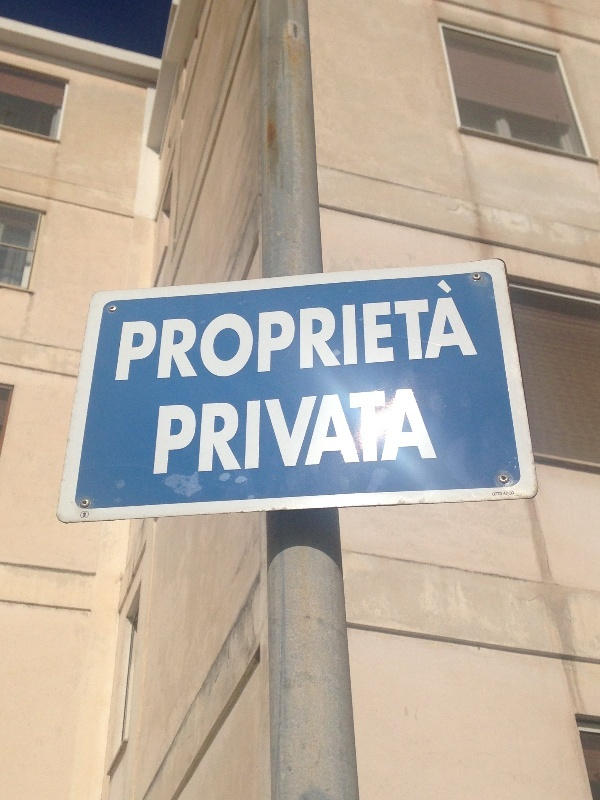text: (129, 275, 144, 385), (145, 275, 160, 385), (161, 275, 176, 385), (177, 275, 192, 385), (193, 275, 208, 385), (209, 275, 224, 385), (225, 275, 240, 385), (241, 275, 256, 385), (257, 275, 272, 385), (273, 275, 288, 385), (289, 275, 304, 385), (305, 275, 320, 385), (321, 275, 336, 385), (337, 275, 352, 385), (353, 275, 368, 385), (369, 275, 384, 385), (385, 275, 400, 385), (401, 275, 416, 385), (417, 275, 432, 385), (433, 275, 448, 385), (449, 275, 464, 385), (465, 275, 480, 385), (161, 385, 176, 475), (177, 385, 192, 475), (193, 385, 208, 475), (209, 385, 224, 475), (225, 385, 240, 475), (241, 385, 256, 475), (257, 385, 272, 475), (273, 385, 288, 475), (289, 385, 304, 475), (305, 385, 320, 475), (321, 385, 336, 475), (337, 385, 352, 475), (353, 385, 368, 475), (369, 385, 384, 475), (385, 385, 400, 475), (401, 385, 416, 475), (417, 385, 432, 475), (433, 385, 440, 475), (123, 275, 128, 385), (481, 275, 483, 385)
